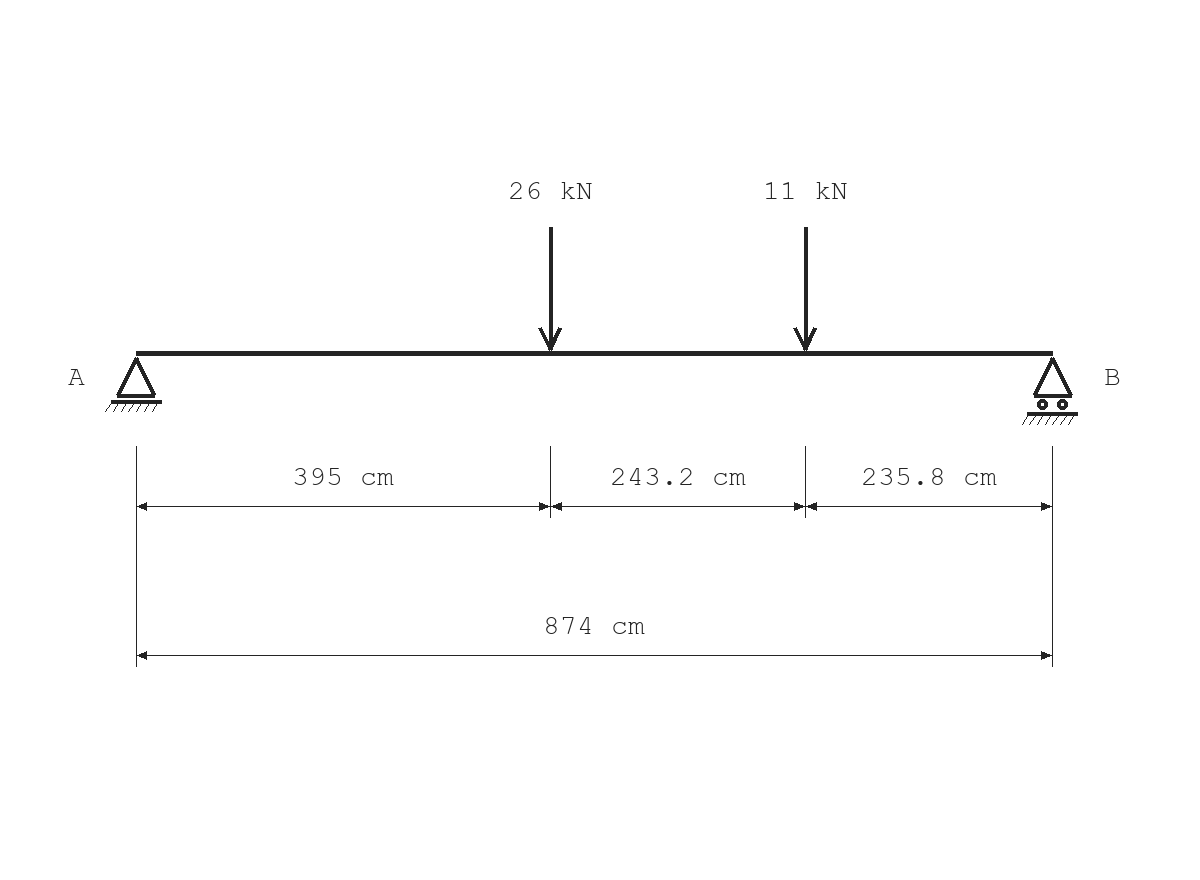pin_support: (105, 357, 162, 412)
point_load: (538, 227, 562, 351), (793, 227, 817, 351)
roller_support: (1022, 357, 1078, 425)
